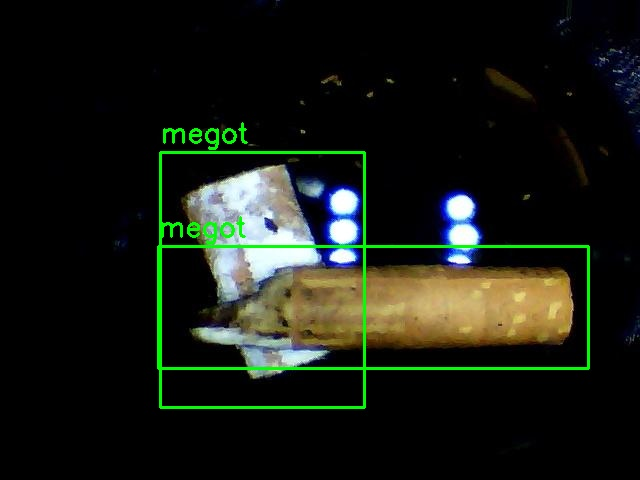megot: (158, 246, 588, 368), (160, 152, 364, 407)
